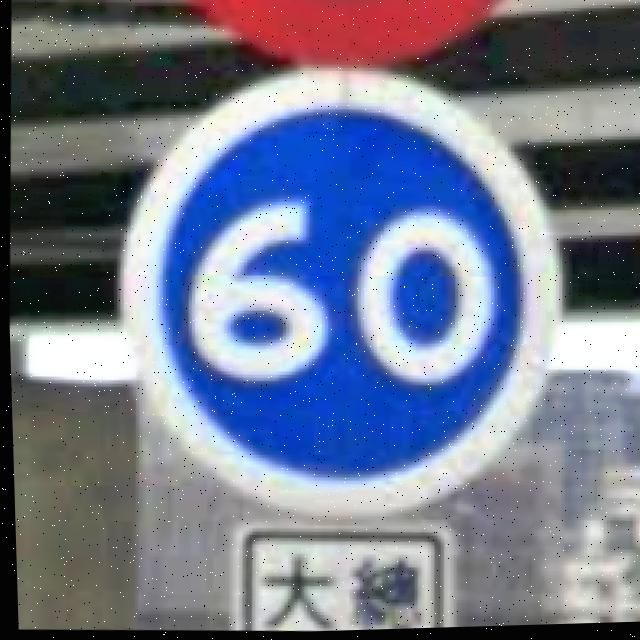min60: (98, 50, 576, 531)
